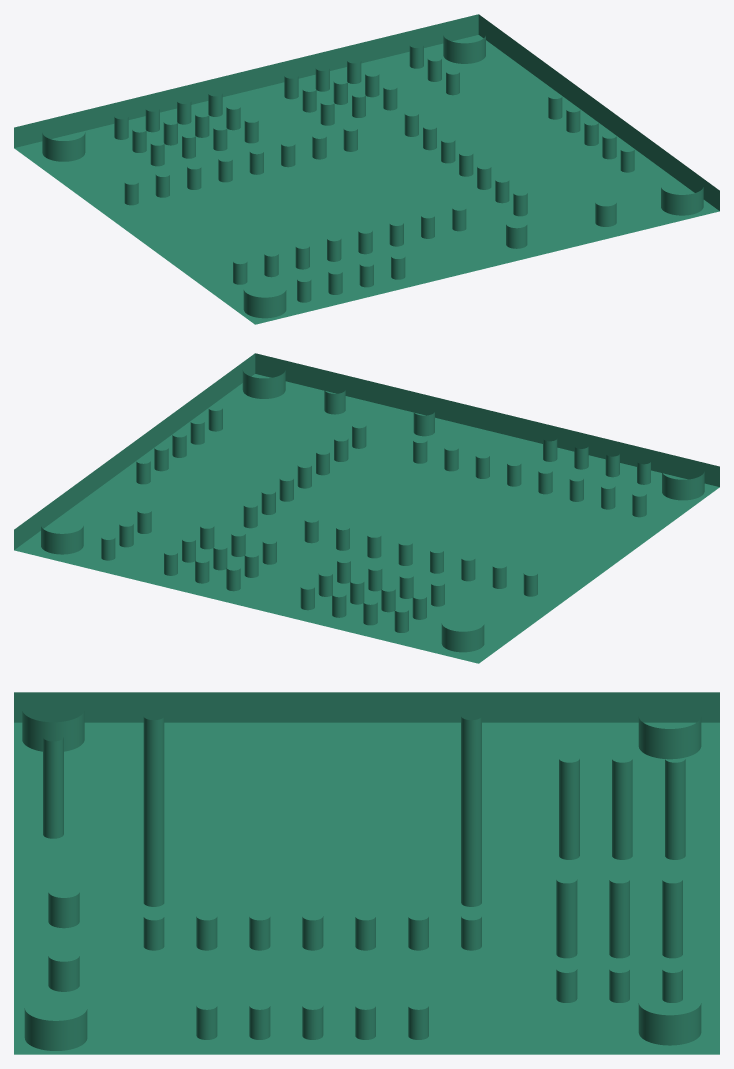
File: zebjus_flight_controller.glb
The picture shows the model from 3 angles, top to bottom: view 1: azimuth 30°, elevation 25°; view 2: azimuth 150°, elevation 25°; view 3: azimuth 270°, elevation 25°; orthographic projection. The views are drawn at different scales.
Parts seen in each view (by area): view 1: _fc_exact.stl; view 2: _fc_exact.stl; view 3: _fc_exact.stl.
Part boxes in pixels (x1=…): _fc_exact.stl: x1=14, y1=14, x2=719, y2=324; _fc_exact.stl: x1=14, y1=353, x2=719, y2=663; _fc_exact.stl: x1=14, y1=692, x2=719, y2=1054.
Size of the model in its own units: 1.78 by 0.0756 by 1.6.
